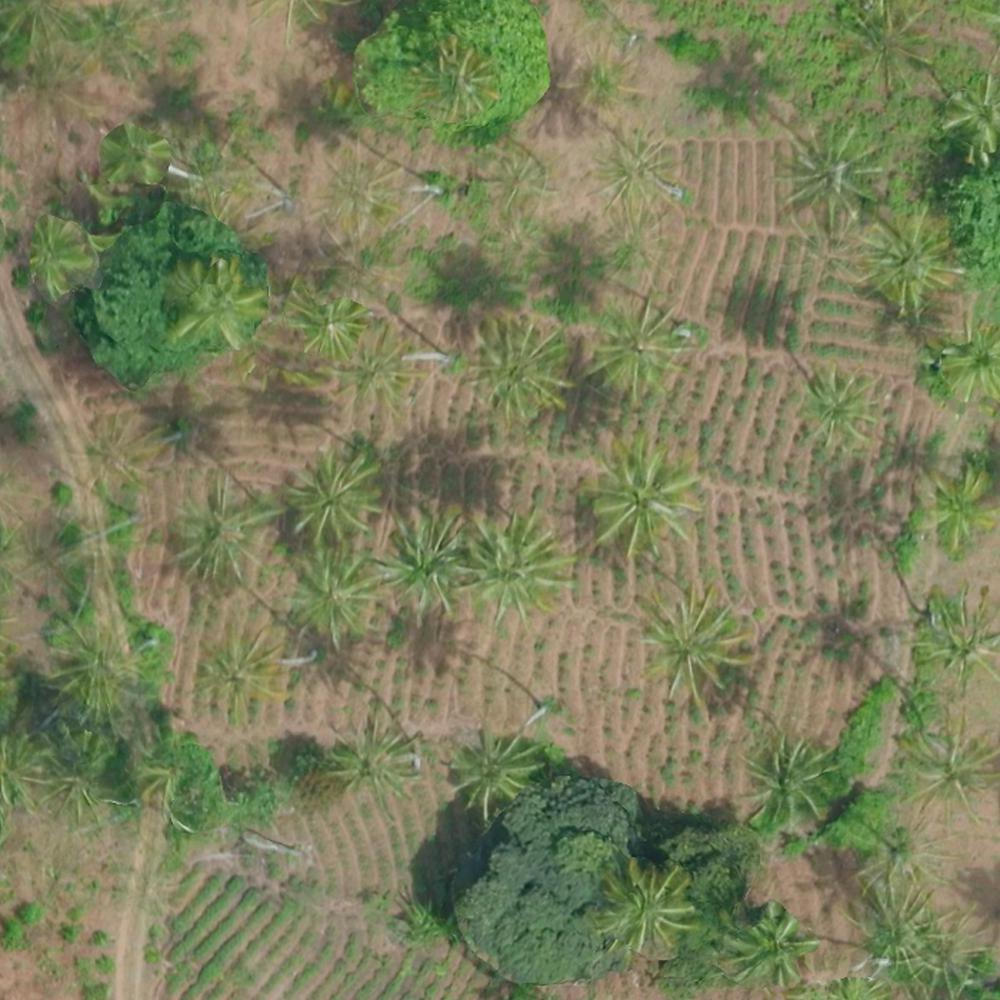Palm: (585, 443, 700, 564), (641, 591, 752, 707), (174, 477, 278, 588), (462, 518, 569, 619), (462, 321, 569, 413), (378, 510, 476, 610), (788, 122, 883, 224), (900, 718, 995, 815), (283, 549, 381, 642), (165, 256, 264, 346), (287, 451, 383, 543), (911, 593, 998, 691), (198, 625, 295, 711), (745, 732, 836, 822), (327, 716, 415, 805), (593, 302, 678, 394), (445, 727, 537, 806), (915, 467, 1000, 548), (797, 371, 883, 446), (728, 909, 813, 983), (940, 325, 1000, 397)
